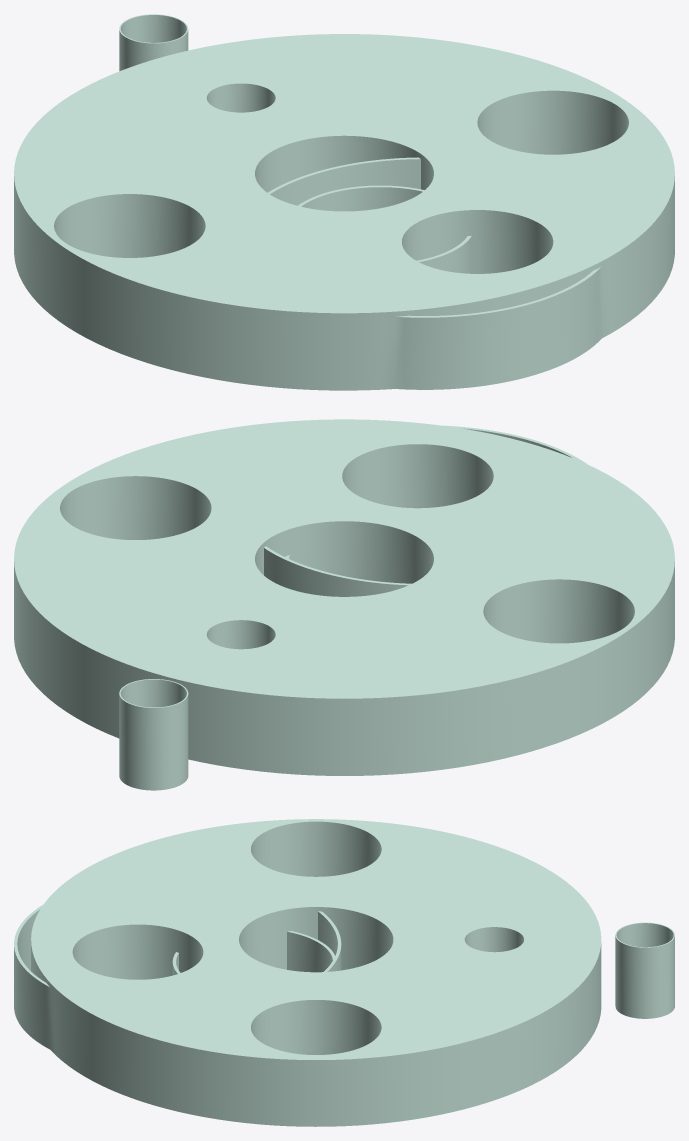
3 views of the same model, one above another, from view 1: azimuth 30°, elevation 25°; view 2: azimuth 150°, elevation 25°; view 3: azimuth 270°, elevation 25° (orthographic). The views are drawn at different scales.
Visible parts, largest first — view 1: Renderer Node; view 2: Renderer Node; view 3: Renderer Node.
Boxes of the visible parts, <box> form: Renderer Node: <box>14,14,674,390</box>; Renderer Node: <box>14,419,674,790</box>; Renderer Node: <box>14,819,674,1126</box>.
Size of the model in its own units: 0.9079 by 0.125 by 1.05.
